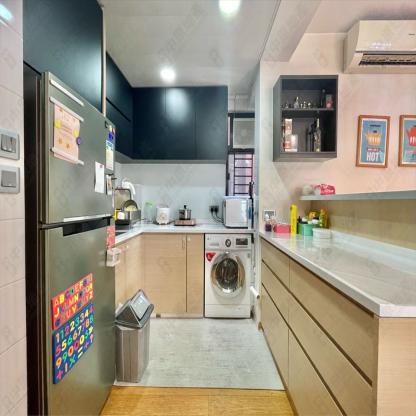Cupboard: (260, 240, 382, 415), (133, 85, 228, 160), (142, 234, 204, 315)
Exhaust Fan: (231, 118, 255, 149)
Fridge: (29, 65, 116, 415)
Washing Machine: (204, 234, 253, 319)
